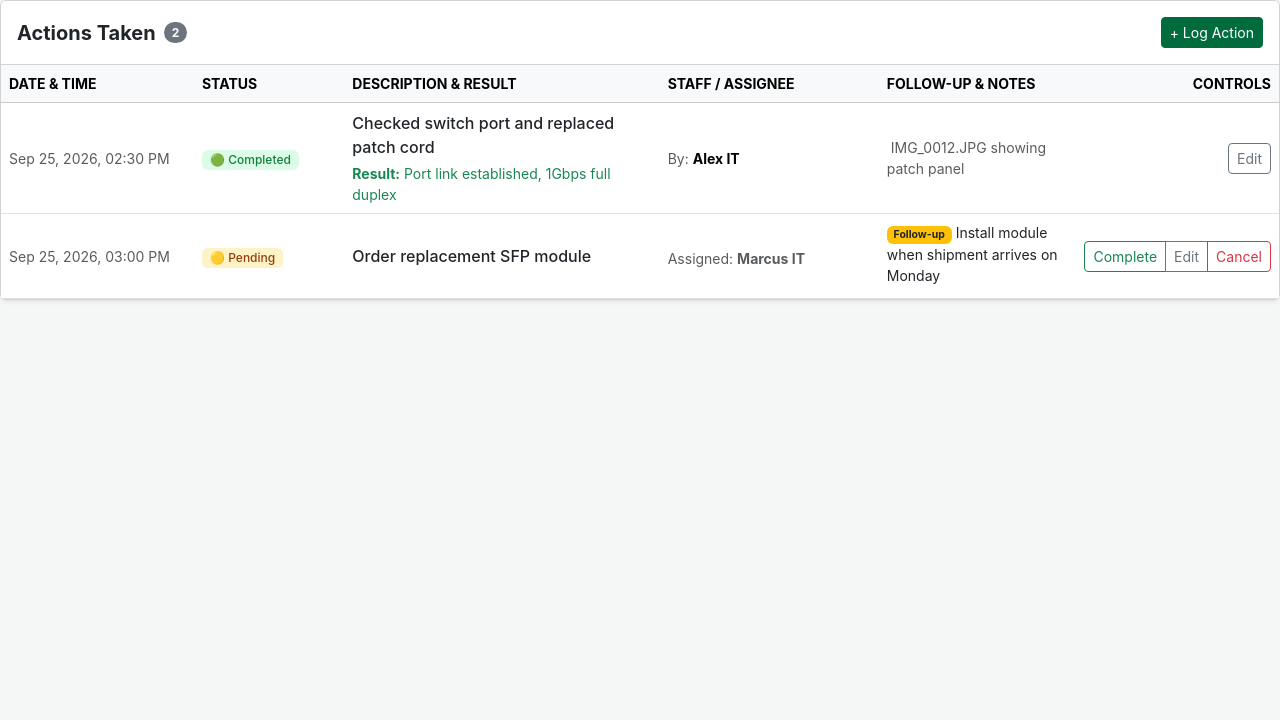
Phase F2 / L4-P05: Actions Taken UI in Ticket Detail › UI-L4-07: Cancel Action Taken modal renders prompt and confirm button
The width and height of the screenshot is (1280, 720).
Click the button with test id "cancel-action-btn-2" at (1239, 256), box [1207,241,1271,272]
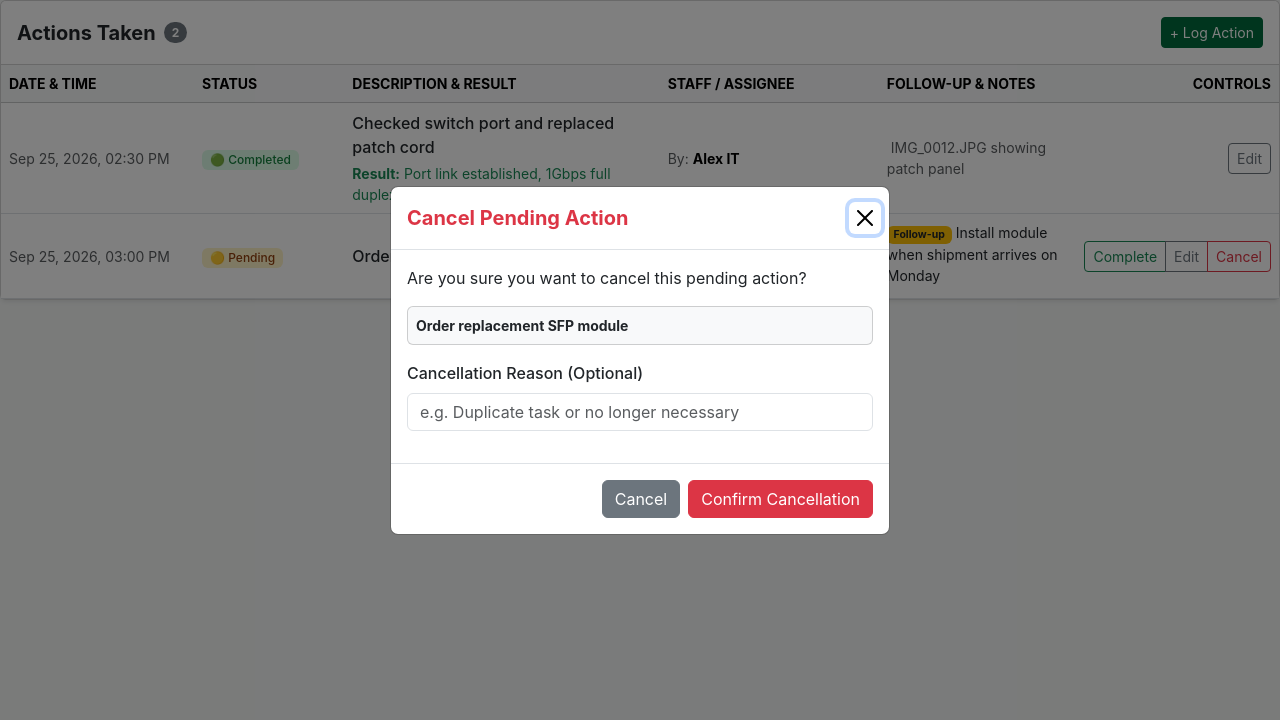
expect the dialog is shown: met
expect the text "Are you sure you want to cancel this pending action?" is shown: met, box [407,266,873,290]
expect the button "Confirm Cancellation" is shown: met, box [688,480,873,518]
